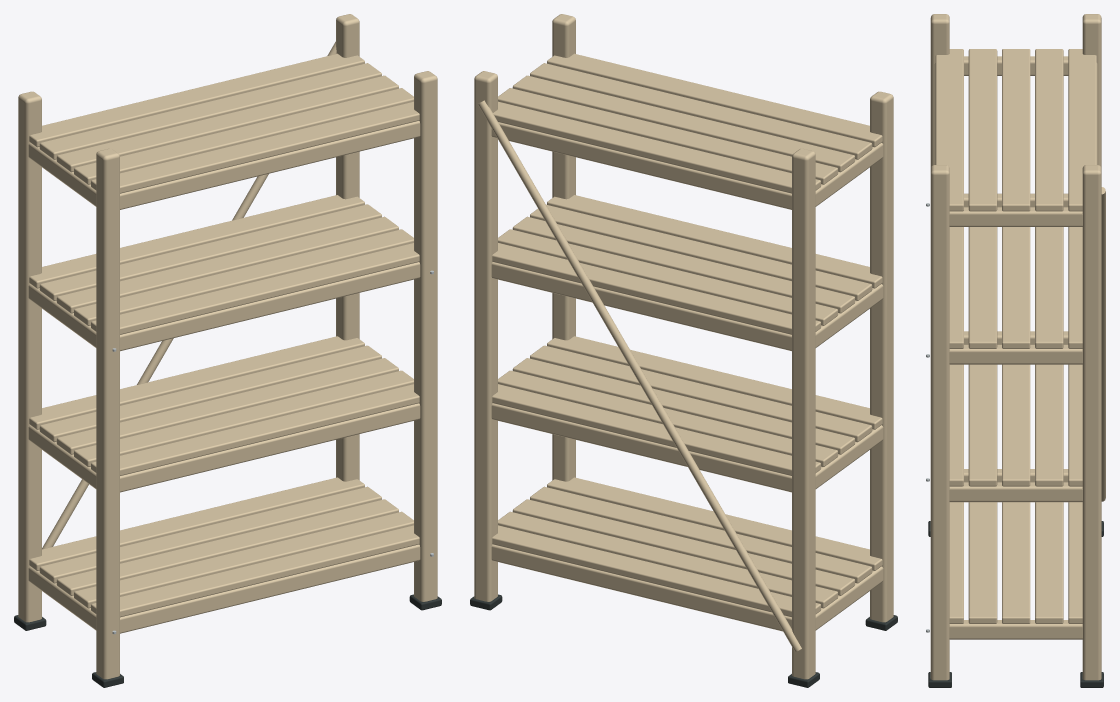
Rendered from cheesemaking-and-dairy-cellar-aging-shelf-straight-a860443f__30884.glb.
3 views of the same model, side by side, from view 1: azimuth 30°, elevation 25°; view 2: azimuth 150°, elevation 25°; view 3: azimuth 270°, elevation 25° (orthographic). The views are drawn at different scales.
Visible parts, largest first — view 1: aging-shelf-straight; view 2: aging-shelf-straight; view 3: aging-shelf-straight.
Part boxes in pixels (x1,y1,x2,y2): aging-shelf-straight: (14, 14, 441, 687); aging-shelf-straight: (470, 14, 897, 687); aging-shelf-straight: (926, 14, 1105, 687).
Size of the model in its own units: 1.21 by 1.8 by 0.569.
